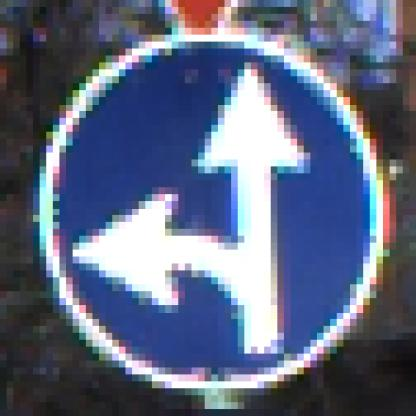Straight or Left: (34, 36, 384, 382)
